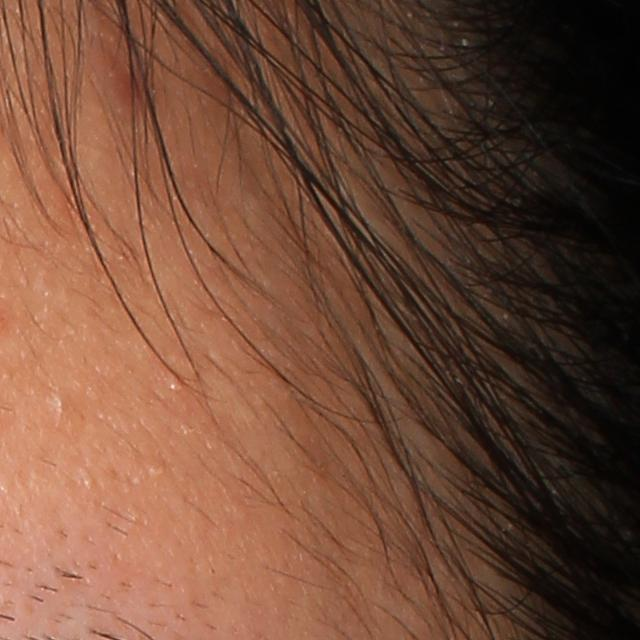comedo: (48, 388, 73, 424), (165, 373, 185, 396), (149, 456, 168, 477)
